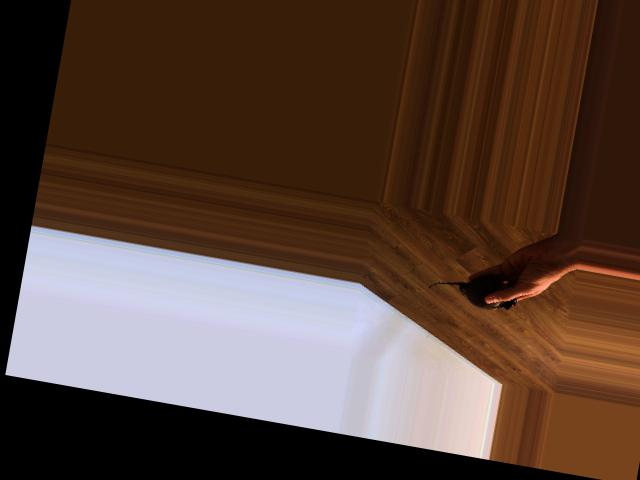beet: (425, 266, 519, 313)
